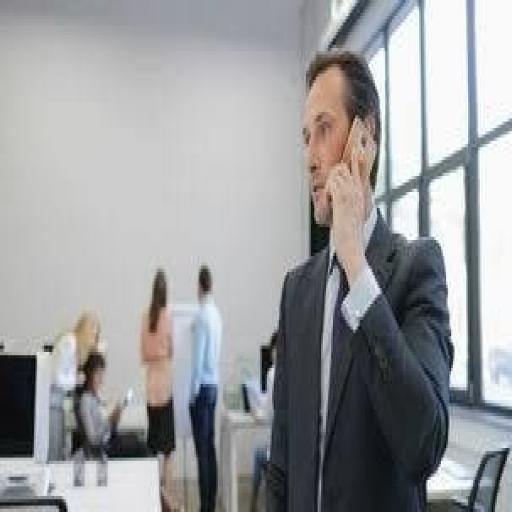calling: (264, 48, 454, 509)
